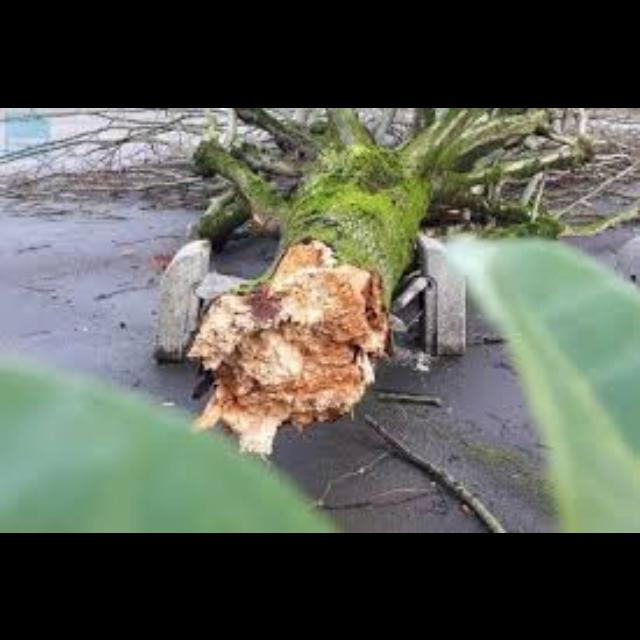Fallen Tree: (193, 117, 444, 460)
